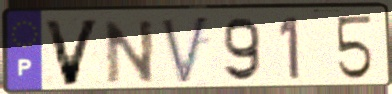1: (276, 15, 305, 83)
5: (334, 13, 375, 82)
9: (221, 16, 264, 84)
N: (101, 17, 157, 86)
V: (40, 17, 103, 89), (158, 13, 212, 88)
